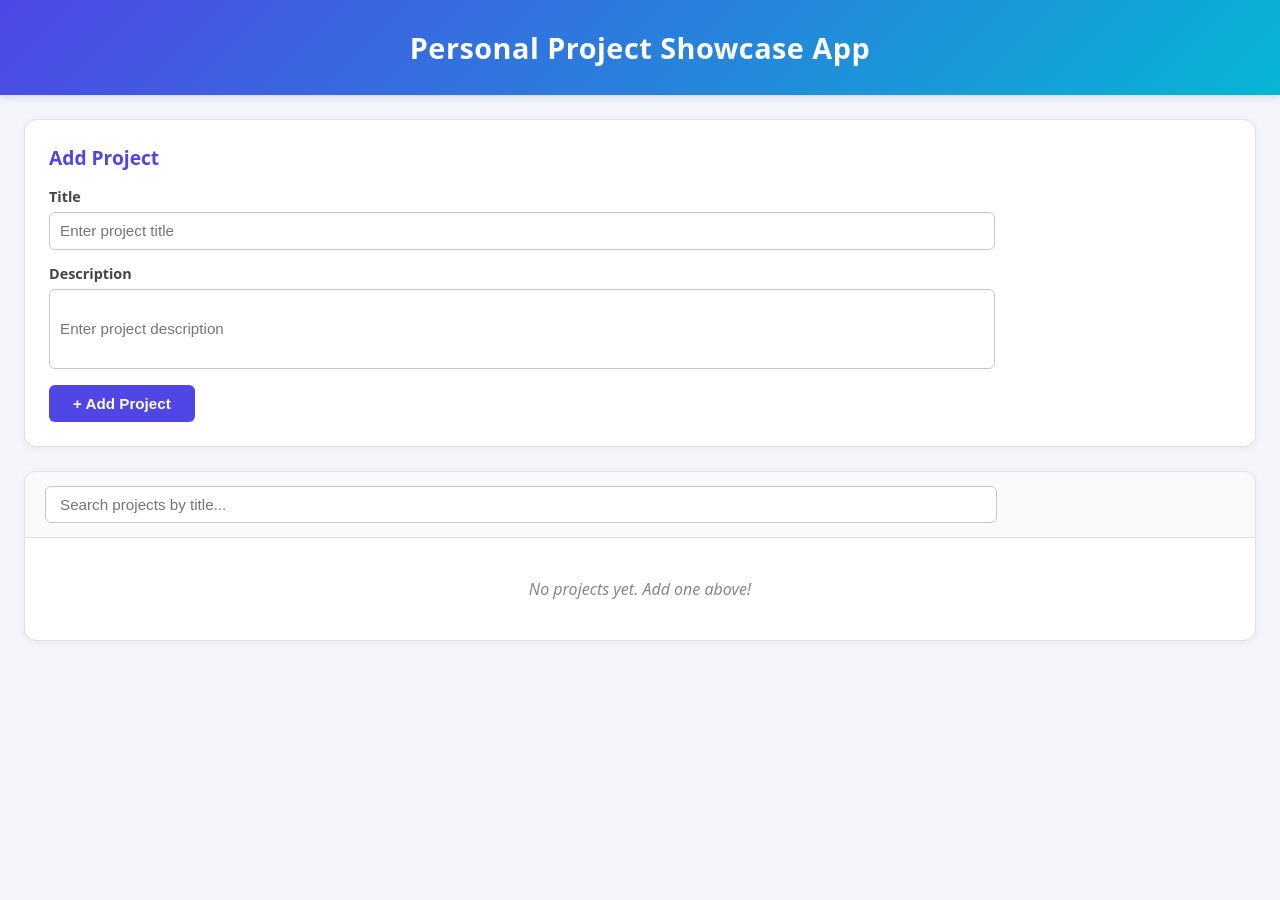
Test: deletes a project card when the ✕ button is clicked
This screenshot has width=1280, height=900.
In the field labelled "Title": (522,231) [49,212,995,250], type "Delete Me"
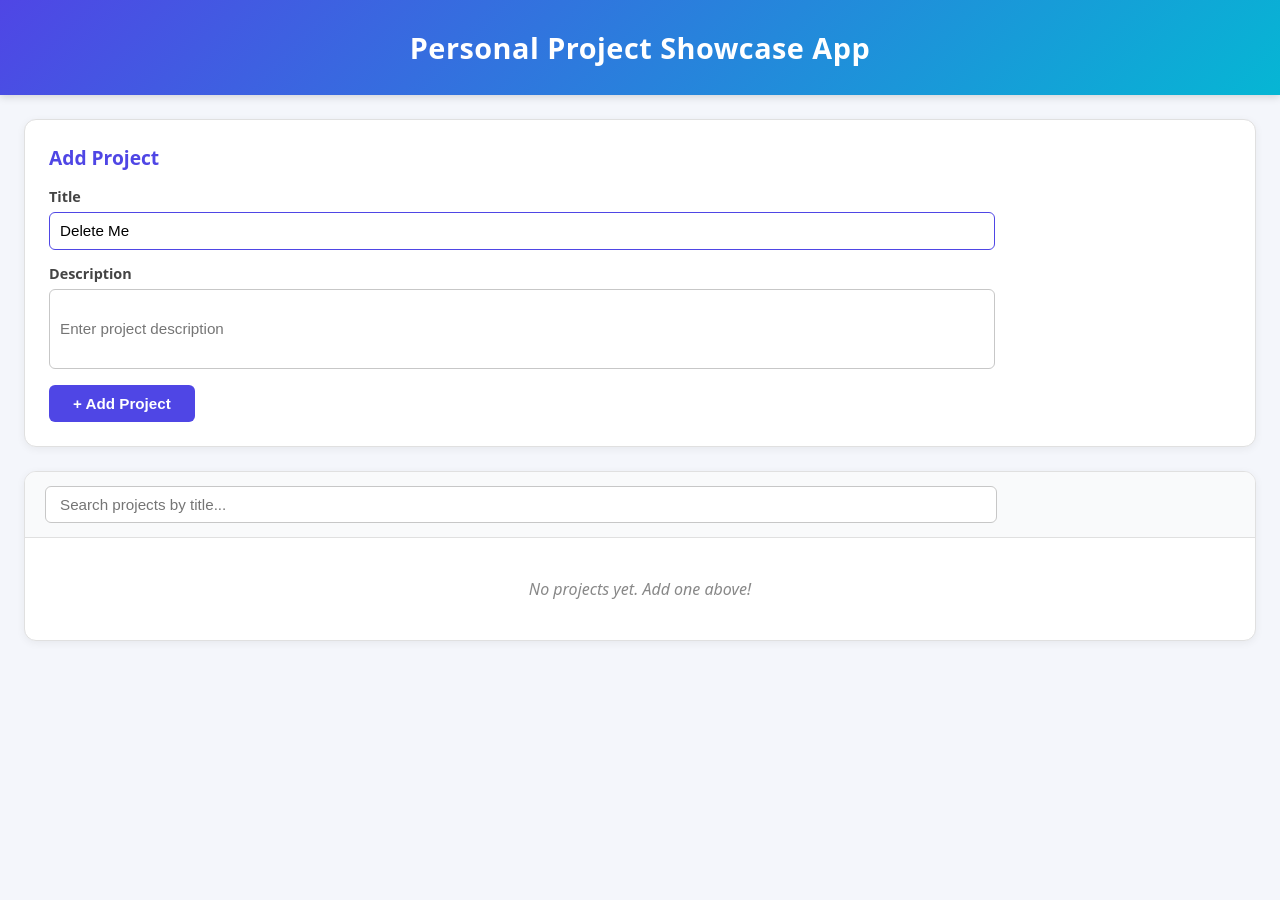
In the field labelled "Description": (522,329) [49,289,995,369], type "Some desc"
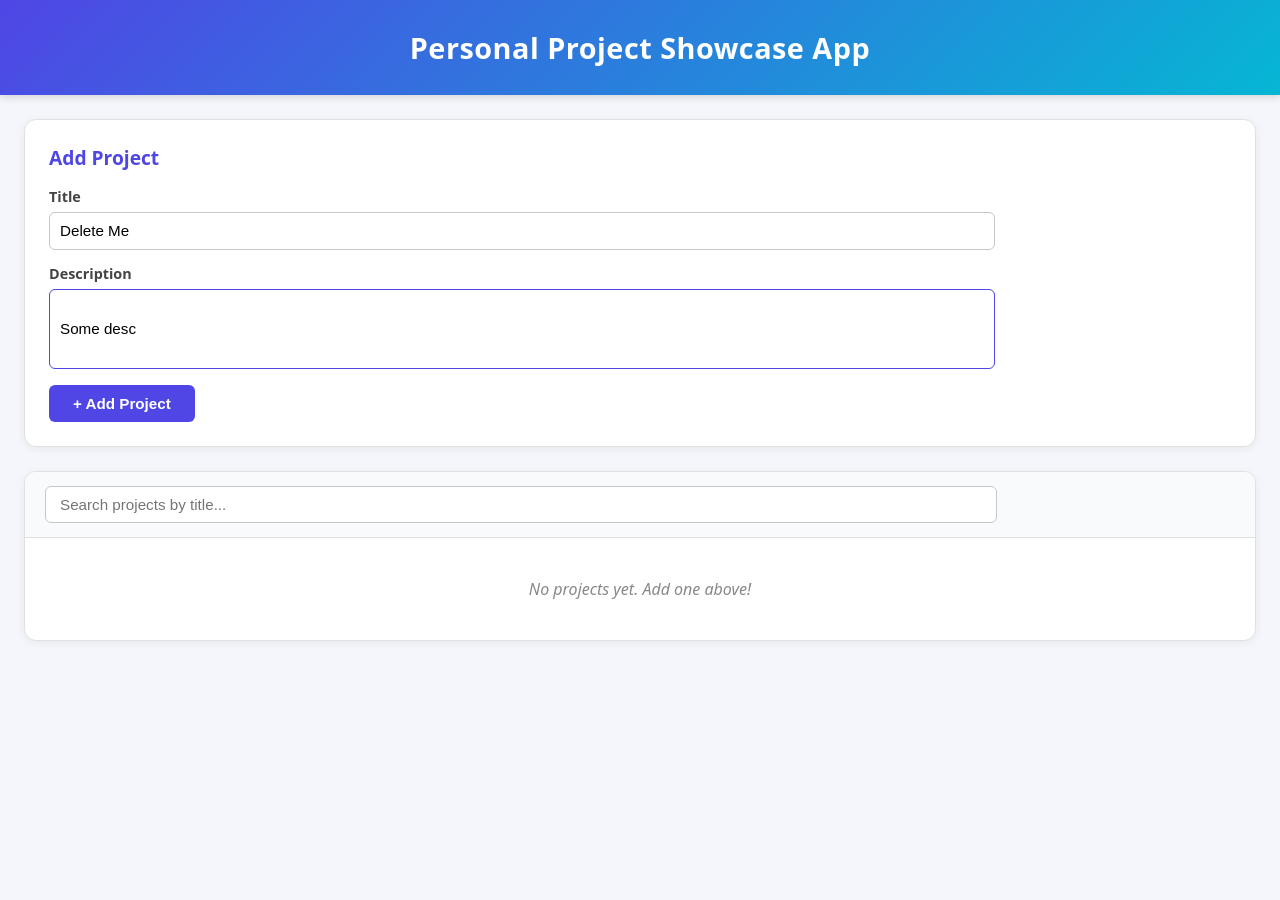
Click the button "+ Add Project": (122,403) [49,385,195,422]
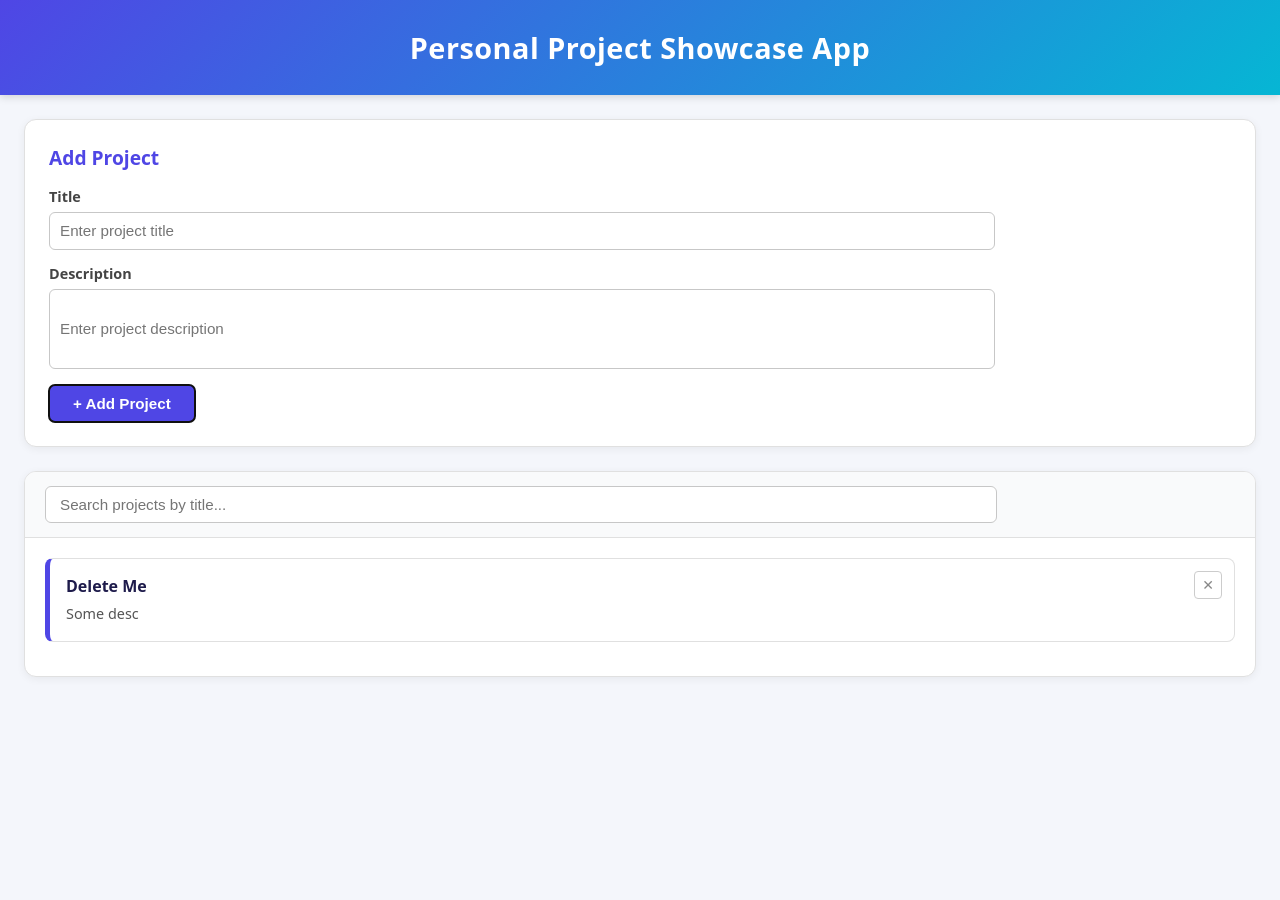
Click the button "✕": (1208,585) [1194,571,1222,599]
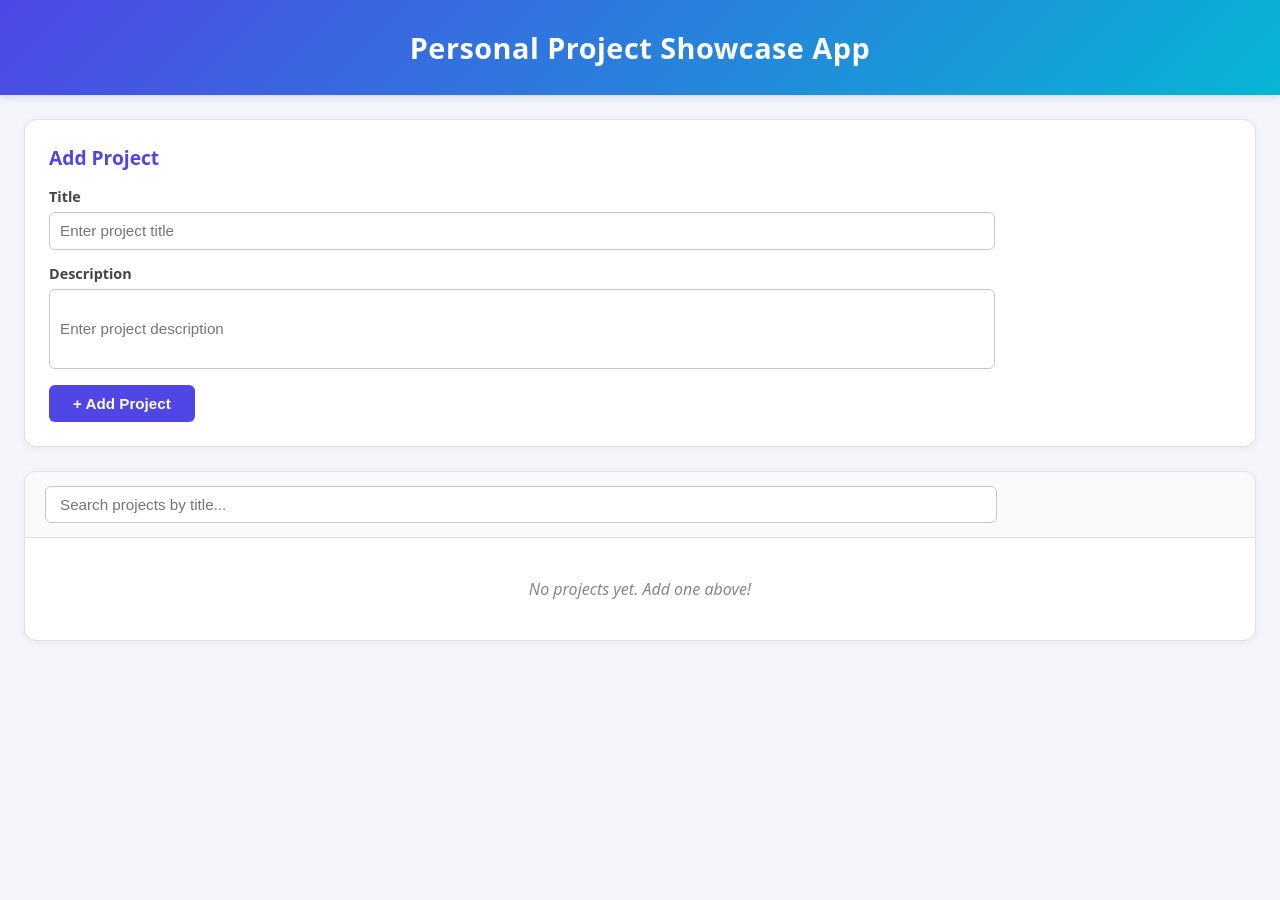
Expected: the heading "Delete Me" is gone
